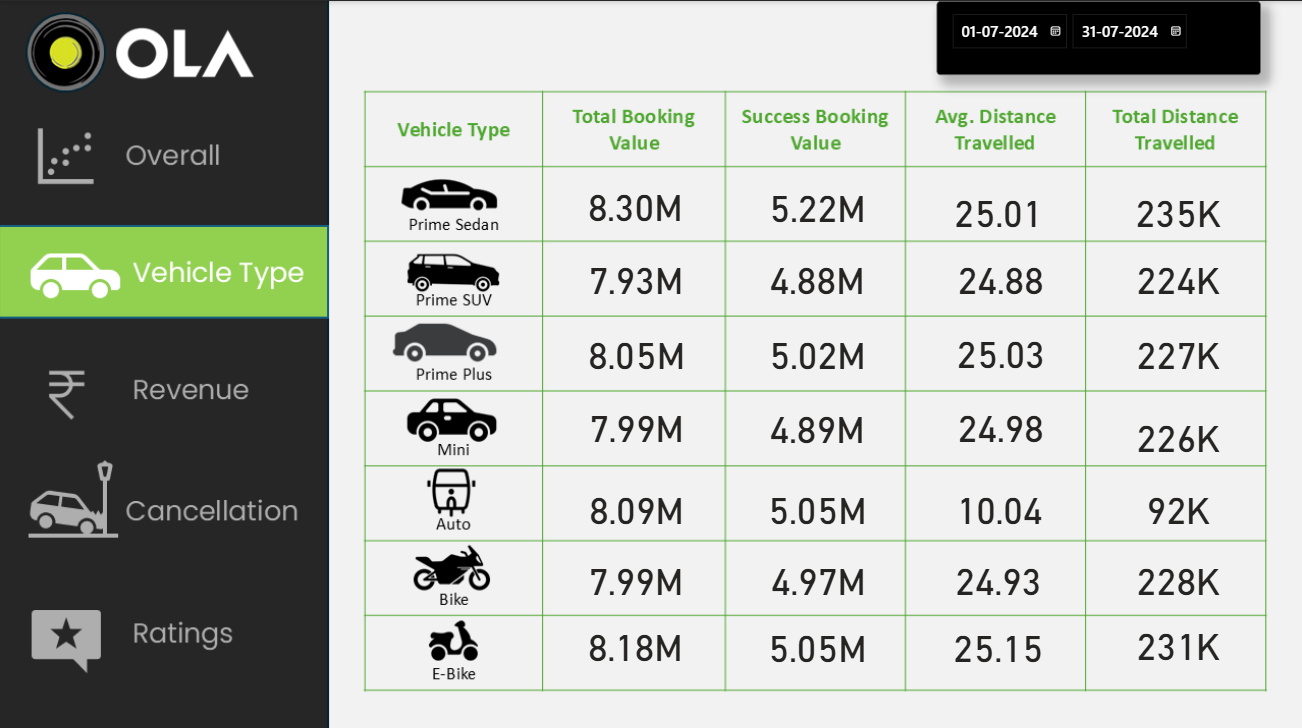

What the dashboard file says about the page in this screenshot:
{"tool":"powerbi","page":{"name":"Vehicle Type ","canvas":[1280,720],"ordinal":1},"visuals":[{"type":"actionButton","box":[0,108,322.7,96.9],"z":0},{"type":"actionButton","box":[1.2,223.3,322.7,96.9],"z":1000},{"type":"actionButton","box":[0,328.8,322.7,96.9],"z":2000},{"type":"actionButton","box":[0,450.3,322.7,96.9],"z":3000},{"type":"actionButton","box":[0,582.8,322.7,96.9],"z":4000},{"type":"card","fields":{"Values":["Sum(Bookings.Booking_Value)"]},"box":[542.3,168.1,164.4,63.8],"z":5000},{"type":"card","fields":{"Values":["Sum(Bookings.Booking_Value)"]},"box":[543.4,536.5,163.3,63.1],"z":6000},{"type":"card","fields":{"Values":["Sum(Bookings.Booking_Value)"]},"box":[542,599.7,164.7,64.5],"z":7000},{"type":"card","fields":{"Values":["Sum(Bookings.Booking_Value)"]},"box":[543.4,240.1,163.3,63.1],"z":8000},{"type":"card","fields":{"Values":["Sum(Bookings.Booking_Value)"]},"box":[543.4,312.9,164.7,64.5],"z":9000},{"type":"card","fields":{"Values":["Sum(Bookings.Booking_Value)"]},"box":[543.4,385.6,164.7,64.5],"z":10000},{"type":"card","fields":{"Values":["Sum(Bookings.Booking_Value)"]},"box":[543.4,466.6,164.7,63.1],"z":11000},{"type":"card","fields":{"Values":["Sum(Bookings.Booking_Value)"]},"box":[721.8,168.8,163.3,63.1],"z":12000},{"type":"card","fields":{"Values":["Sum(Bookings.Booking_Value)"]},"box":[721.8,240.1,163.3,63.1],"z":13000},{"type":"card","fields":{"Values":["Sum(Bookings.Booking_Value)"]},"box":[721.8,314.2,163.3,63.1],"z":14000},{"type":"card","fields":{"Values":["Sum(Bookings.Booking_Value)"]},"box":[721.8,387,163.3,63.1],"z":15000},{"type":"card","fields":{"Values":["Sum(Bookings.Booking_Value)"]},"box":[721.8,466.6,163.3,63.1],"z":16000},{"type":"card","fields":{"Values":["Sum(Bookings.Booking_Value)"]},"box":[723.2,536.5,163.3,63.1],"z":17000},{"type":"card","fields":{"Values":["Sum(Bookings.Booking_Value)"]},"box":[721.8,601,163.3,63.1],"z":18000},{"type":"card","fields":{"Values":["Avg(Bookings.Ride_Distance)"]},"box":[898.8,174.3,163.3,63.1],"z":19000},{"type":"card","fields":{"Values":["Avg(Bookings.Ride_Distance)"]},"box":[901.5,240.1,163.3,63.1],"z":20000},{"type":"card","fields":{"Values":["Avg(Bookings.Ride_Distance)"]},"box":[901.5,312.9,163.3,63.1],"z":21000},{"type":"card","fields":{"Values":["Avg(Bookings.Ride_Distance)"]},"box":[901.5,385.6,163.3,63.1],"z":22000},{"type":"card","fields":{"Values":["Avg(Bookings.Ride_Distance)"]},"box":[900.2,466.6,163.3,63.1],"z":23000},{"type":"card","fields":{"Values":["Avg(Bookings.Ride_Distance)"]},"box":[898.8,536.5,163.3,63.1],"z":24000},{"type":"card","fields":{"Values":["Avg(Bookings.Ride_Distance)"]},"box":[898.8,601,163.3,63.1],"z":25000},{"type":"card","fields":{"Values":["Sum(Bookings.Ride_Distance)"]},"box":[1075.8,174.3,163.3,63.1],"z":26000},{"type":"card","fields":{"Values":["Sum(Bookings.Ride_Distance)"]},"box":[1075.8,240.1,163.3,63.1],"z":27000},{"type":"card","fields":{"Values":["Sum(Bookings.Ride_Distance)"]},"box":[1075.8,314.2,163.3,63.1],"z":28000},{"type":"card","fields":{"Values":["Sum(Bookings.Ride_Distance)"]},"box":[1075.8,395.2,163.3,63.1],"z":29000},{"type":"card","fields":{"Values":["Sum(Bookings.Ride_Distance)"]},"box":[1075.8,466.6,163.3,63.1],"z":30000},{"type":"card","fields":{"Values":["Sum(Bookings.Ride_Distance)"]},"box":[1075.8,536.5,163.3,63.1],"z":31000},{"type":"card","fields":{"Values":["Sum(Bookings.Ride_Distance)"]},"box":[1075.8,599.7,163.3,63.1],"z":32000},{"type":"slicer","title":"Date ","fields":{"Values":["Bookings.Date"]},"box":[920.8,0,318.4,72.7],"z":33000}]}

Visuals, with their boxes on the page's 1280x720 design canvas (x1, y1, x2, y2). These are canvas units, not pixel positions in the 1302x728 screenshot, which may show the page scaled, cropped or inside an application window:
actionButton: l=0, t=108, r=323, b=205
actionButton: l=1, t=223, r=324, b=320
actionButton: l=0, t=329, r=323, b=426
actionButton: l=0, t=450, r=323, b=547
actionButton: l=0, t=583, r=323, b=680
card - Sum(Bookings.Booking_Value): l=542, t=168, r=707, b=232
card - Sum(Bookings.Booking_Value): l=543, t=536, r=707, b=600
card - Sum(Bookings.Booking_Value): l=542, t=600, r=707, b=664
card - Sum(Bookings.Booking_Value): l=543, t=240, r=707, b=303
card - Sum(Bookings.Booking_Value): l=543, t=313, r=708, b=377
card - Sum(Bookings.Booking_Value): l=543, t=386, r=708, b=450
card - Sum(Bookings.Booking_Value): l=543, t=467, r=708, b=530
card - Sum(Bookings.Booking_Value): l=722, t=169, r=885, b=232
card - Sum(Bookings.Booking_Value): l=722, t=240, r=885, b=303
card - Sum(Bookings.Booking_Value): l=722, t=314, r=885, b=377
card - Sum(Bookings.Booking_Value): l=722, t=387, r=885, b=450
card - Sum(Bookings.Booking_Value): l=722, t=467, r=885, b=530
card - Sum(Bookings.Booking_Value): l=723, t=536, r=886, b=600
card - Sum(Bookings.Booking_Value): l=722, t=601, r=885, b=664
card - Avg(Bookings.Ride_Distance): l=899, t=174, r=1062, b=237
card - Avg(Bookings.Ride_Distance): l=902, t=240, r=1065, b=303
card - Avg(Bookings.Ride_Distance): l=902, t=313, r=1065, b=376
card - Avg(Bookings.Ride_Distance): l=902, t=386, r=1065, b=449
card - Avg(Bookings.Ride_Distance): l=900, t=467, r=1064, b=530
card - Avg(Bookings.Ride_Distance): l=899, t=536, r=1062, b=600
card - Avg(Bookings.Ride_Distance): l=899, t=601, r=1062, b=664
card - Sum(Bookings.Ride_Distance): l=1076, t=174, r=1239, b=237
card - Sum(Bookings.Ride_Distance): l=1076, t=240, r=1239, b=303
card - Sum(Bookings.Ride_Distance): l=1076, t=314, r=1239, b=377
card - Sum(Bookings.Ride_Distance): l=1076, t=395, r=1239, b=458
card - Sum(Bookings.Ride_Distance): l=1076, t=467, r=1239, b=530
card - Sum(Bookings.Ride_Distance): l=1076, t=536, r=1239, b=600
card - Sum(Bookings.Ride_Distance): l=1076, t=600, r=1239, b=663
"Date " slicer: l=921, t=0, r=1239, b=73
